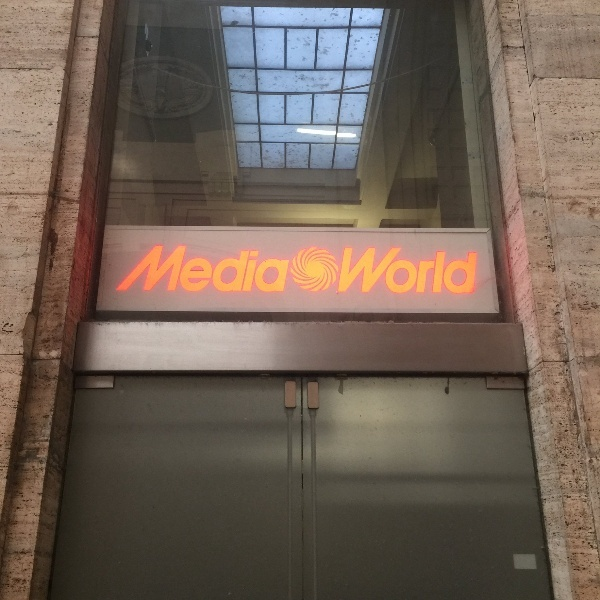text: (161, 243, 176, 295), (177, 243, 192, 295), (193, 243, 208, 295), (209, 243, 224, 295), (225, 243, 240, 295), (241, 243, 256, 295), (257, 243, 272, 295), (273, 243, 288, 295), (353, 246, 368, 295), (369, 246, 384, 295), (385, 246, 400, 295), (401, 246, 416, 295), (417, 246, 432, 295), (433, 246, 448, 295), (449, 246, 464, 295), (465, 246, 479, 295), (344, 246, 352, 295), (157, 243, 160, 295), (289, 243, 292, 295)
